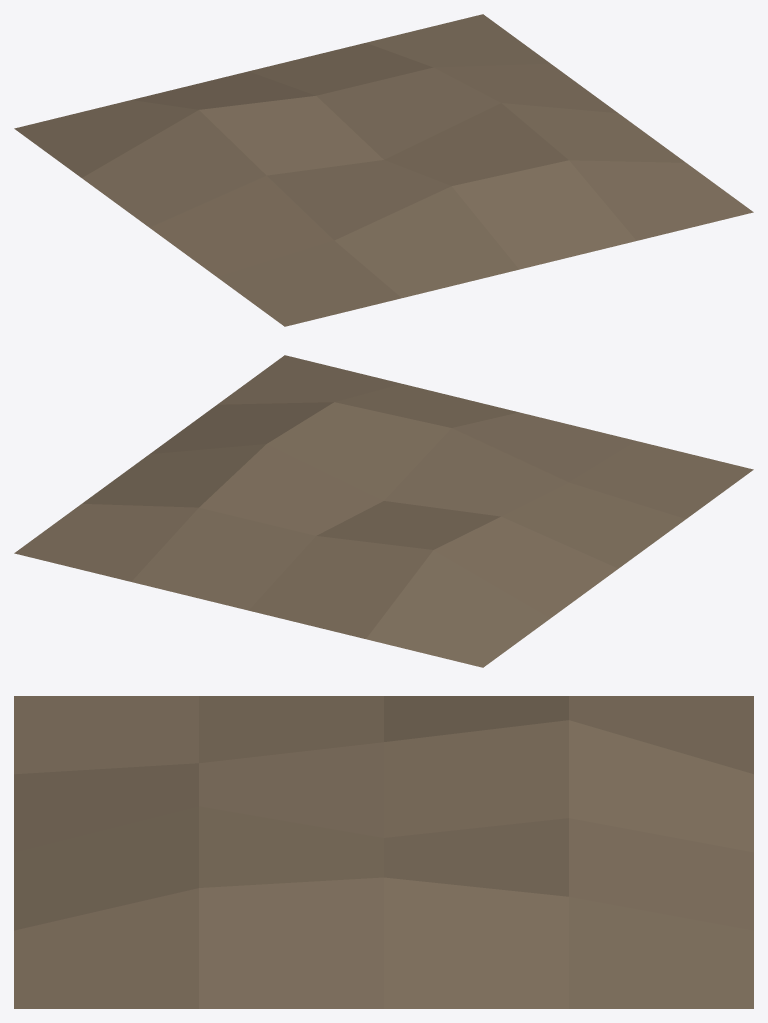
Rendered from Tile_11_Mud_Deep.glb.
3 views of the same model, one above another, from view 1: azimuth 30°, elevation 25°; view 2: azimuth 150°, elevation 25°; view 3: azimuth 270°, elevation 25° (orthographic). The views are drawn at different scales.
Parts seen in each view (by area): view 1: Tile_Mud_Deep; view 2: Tile_Mud_Deep; view 3: Tile_Mud_Deep.
Boxes of the visible parts, x1,y1,x2,y2 form: Tile_Mud_Deep: [14, 14, 753, 326]; Tile_Mud_Deep: [14, 355, 753, 667]; Tile_Mud_Deep: [14, 696, 753, 1008].
Bounding box in the file's own units: 0.2 × 0.0162 × 0.2.
